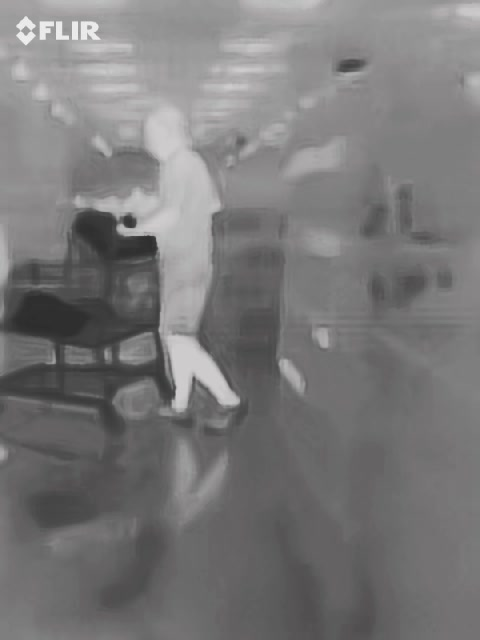head: (143, 105, 188, 160)
